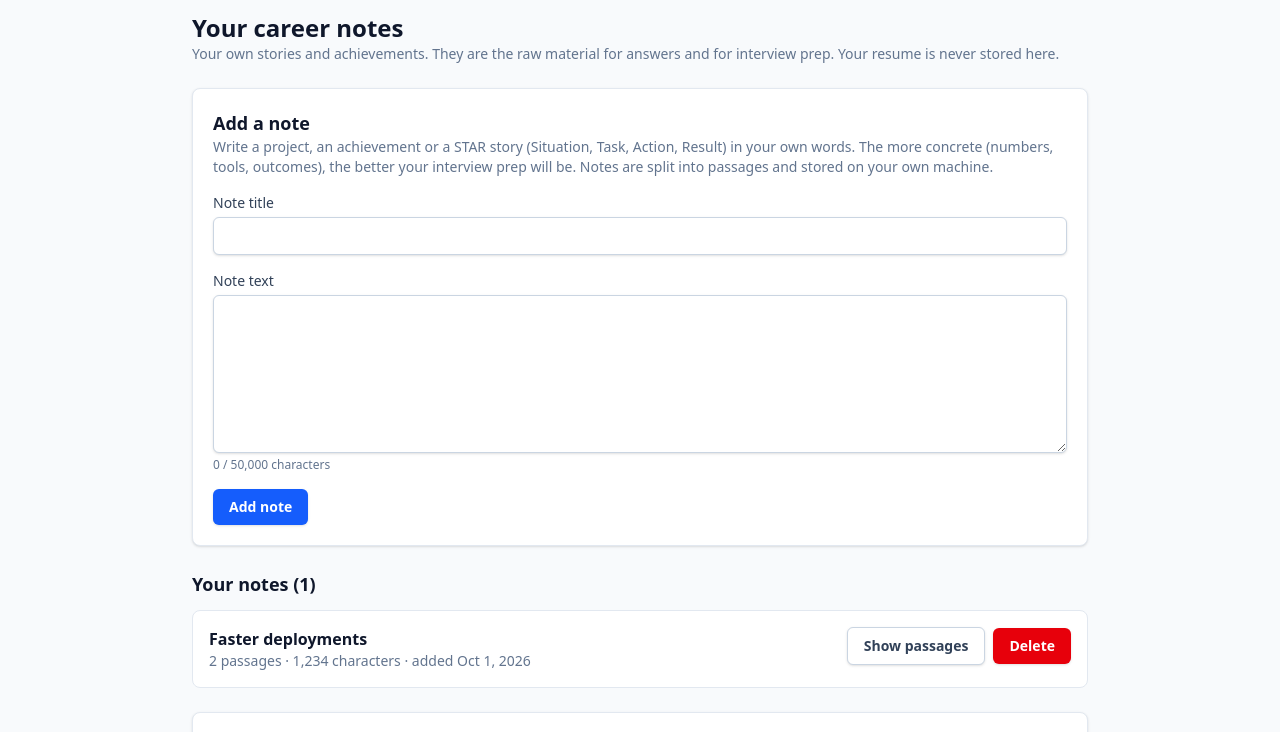
KnowledgePage › adds a note and refreshes the list
Expected: the heading "Faster deployments" is shown, [209,628,367,650]
Type "Mentoring" into the field labelled "Note title" at (640, 236), box [213,217,1067,255]
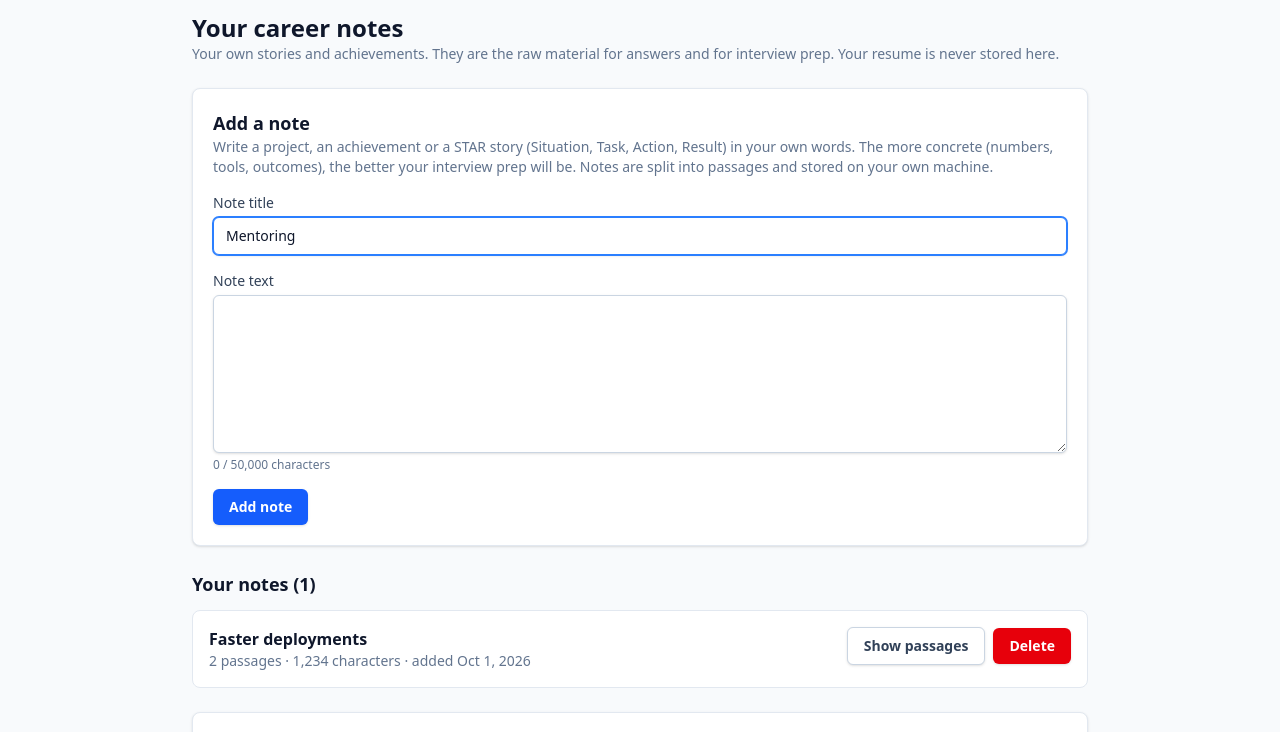
Type "I mentored two interns." into the text box labelled "Note text" at (640, 374), box [213,295,1067,453]
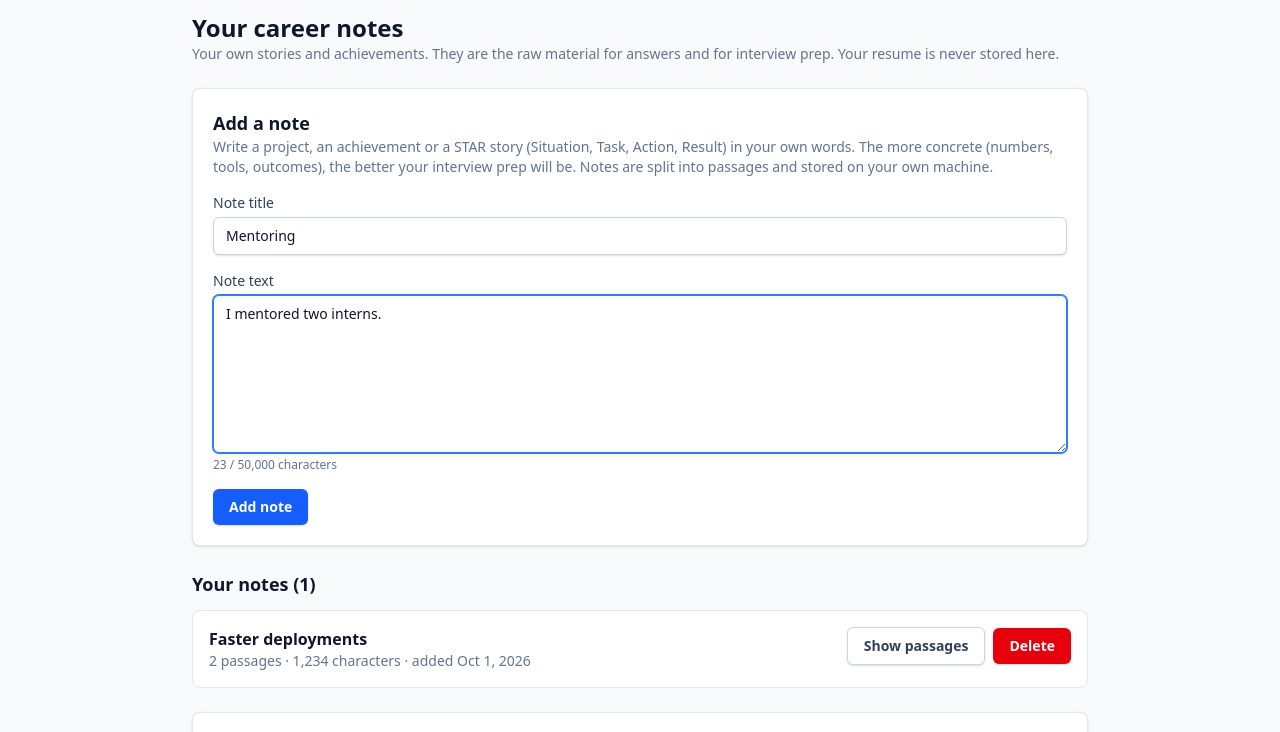
Click the button "Add note" at (261, 507), box [213,489,308,525]
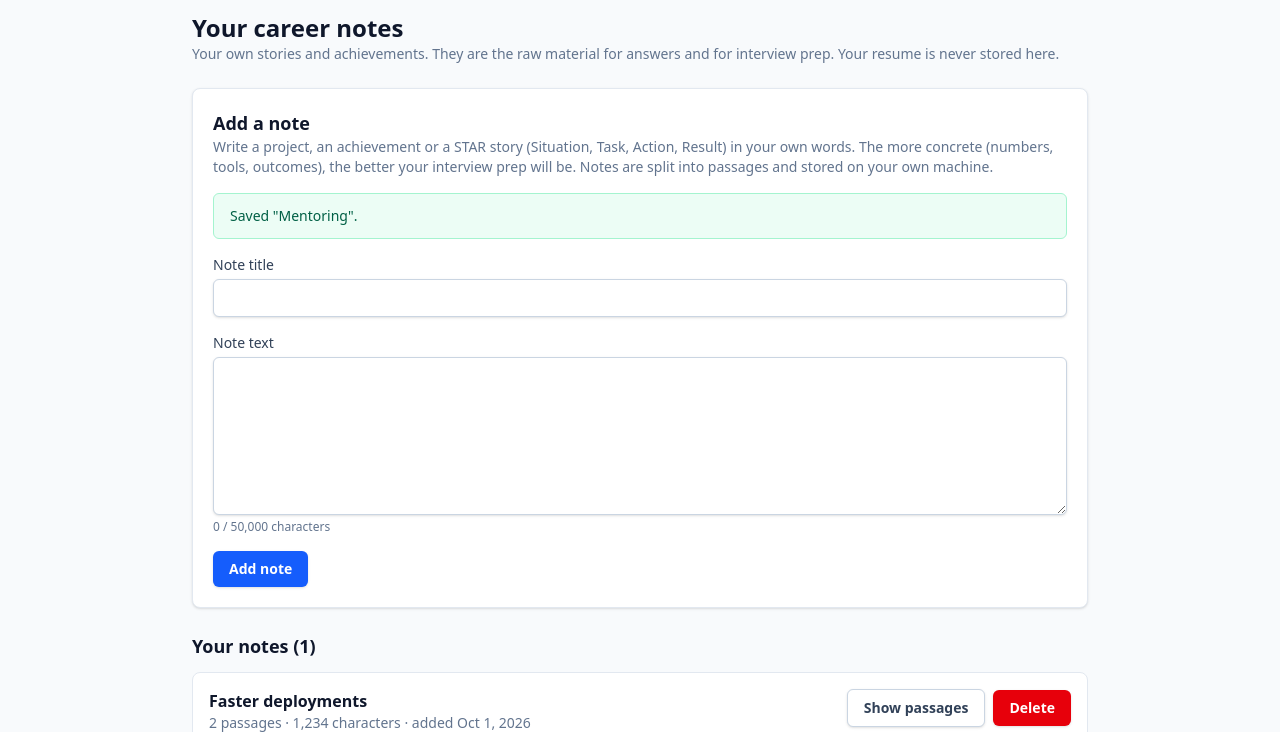
Now the text "Saved \"Mentoring\"." is shown, box [213,193,1067,239]
